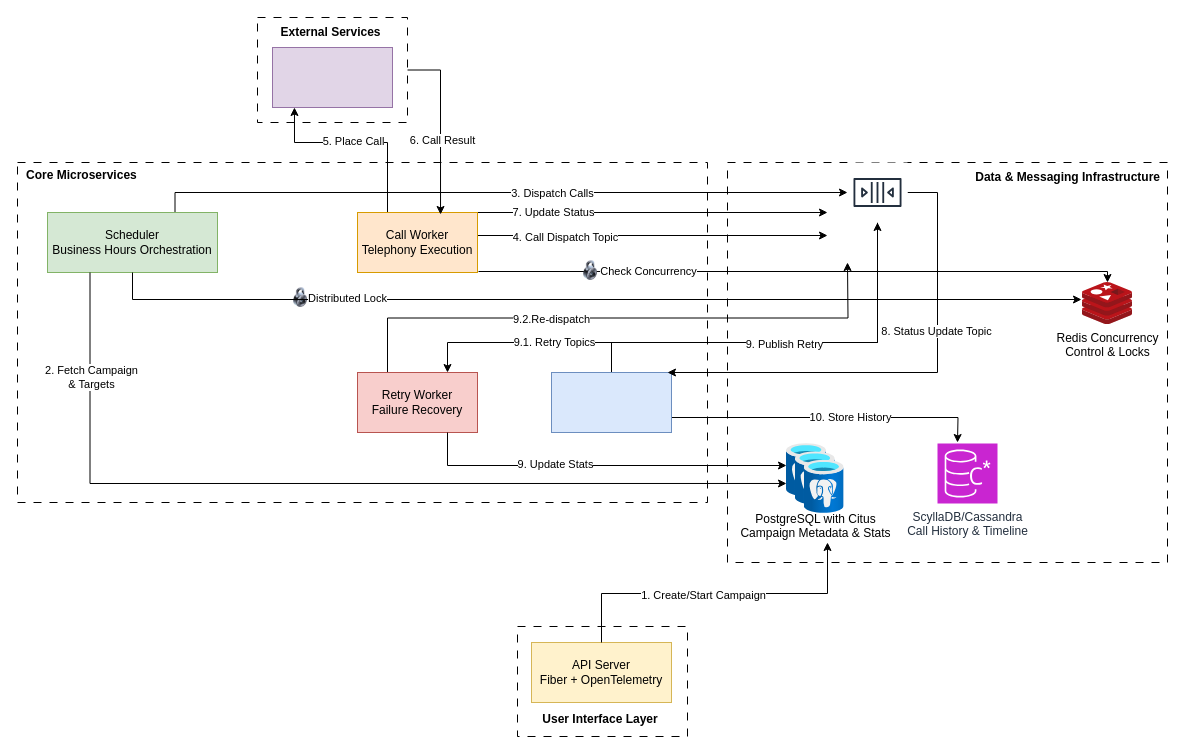
Image size: 1185x754. Some labels were removed from this diagram. The shapes that lost their labels are listed below. From the top down, each one's centre as x and y in pixels, then its label:
At (x=332, y=77): "Telephony Provider (Twilio/NexmoMock)".
At (x=877, y=192): "Kafka Message Queue".
At (x=611, y=402): "Status Worker Event Processing".
